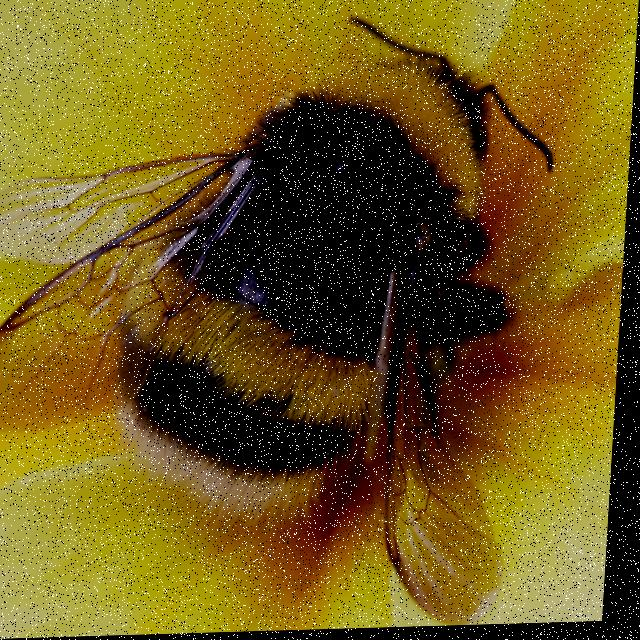Apis-mellifera-scutellata: (0, 0, 580, 638)
